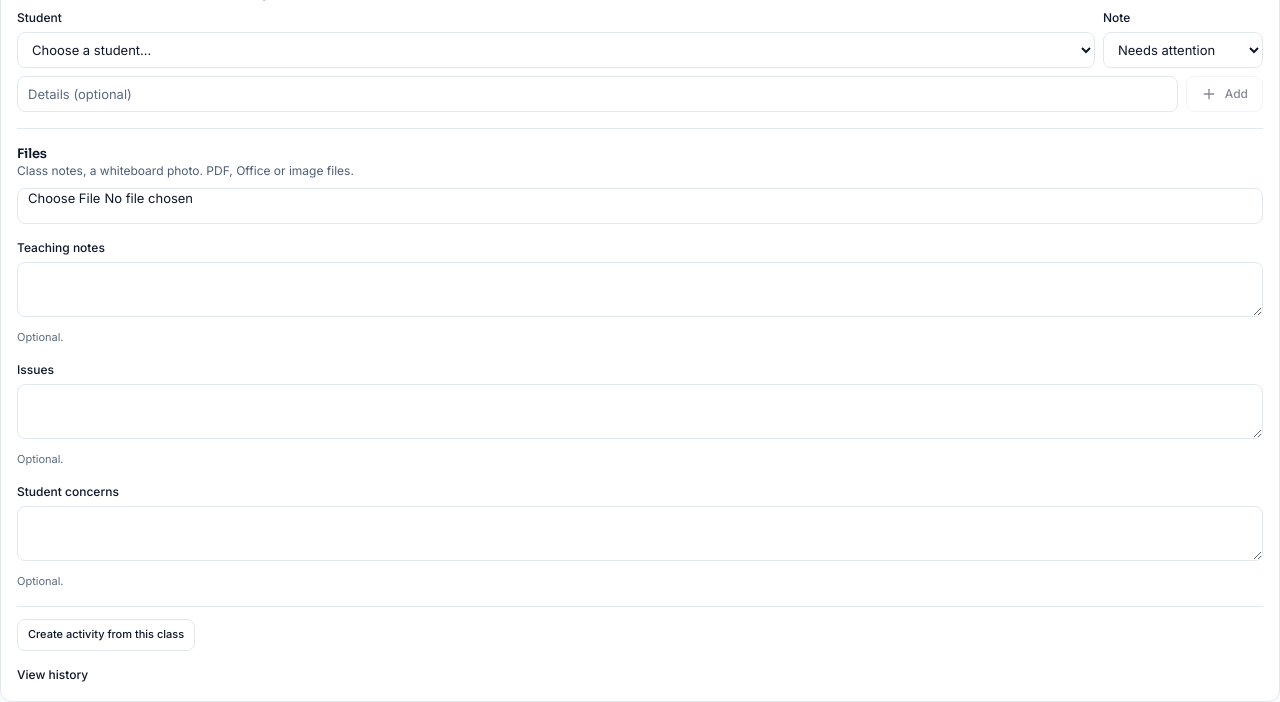
Test: DsrPanel — follow-up (create activity, history) › validates student and activity type before submitting
(page scrolled)
Click the button "Create activity from this class".
click(106, 635)  # box [17,619,195,651]
(page scrolled)
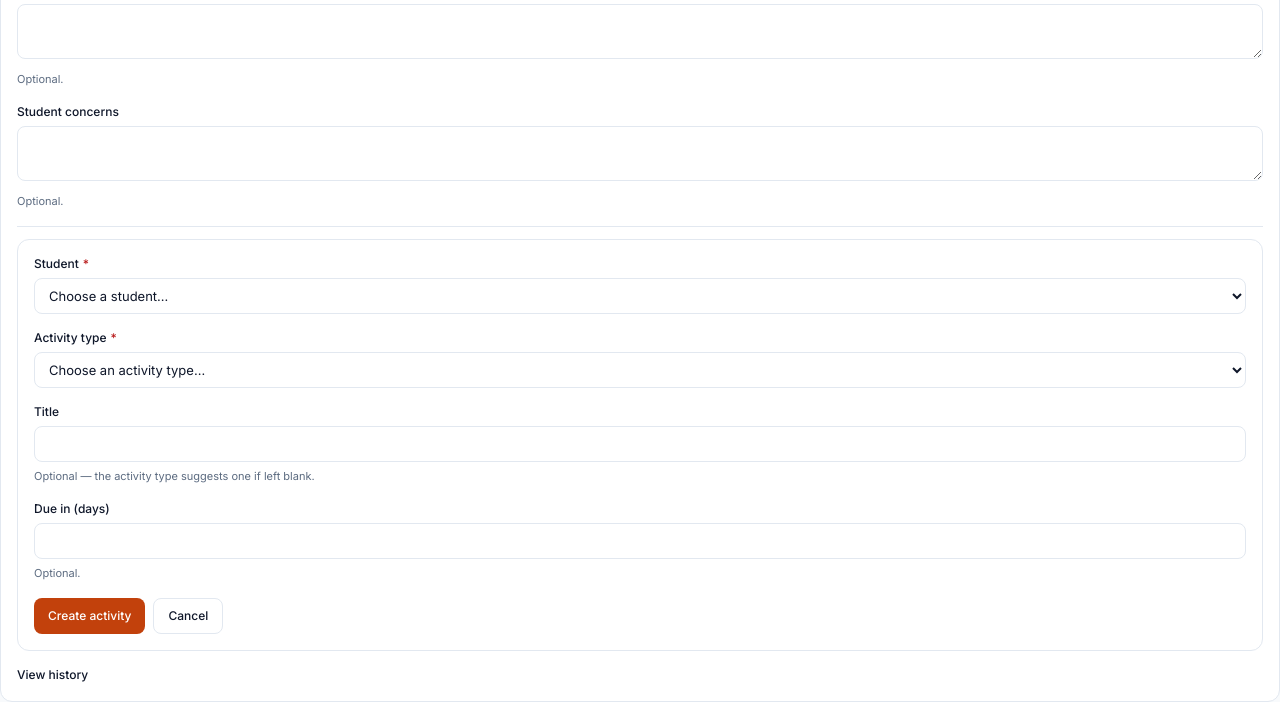
Click the button "Create activity".
click(90, 616)  # box [34,598,145,634]
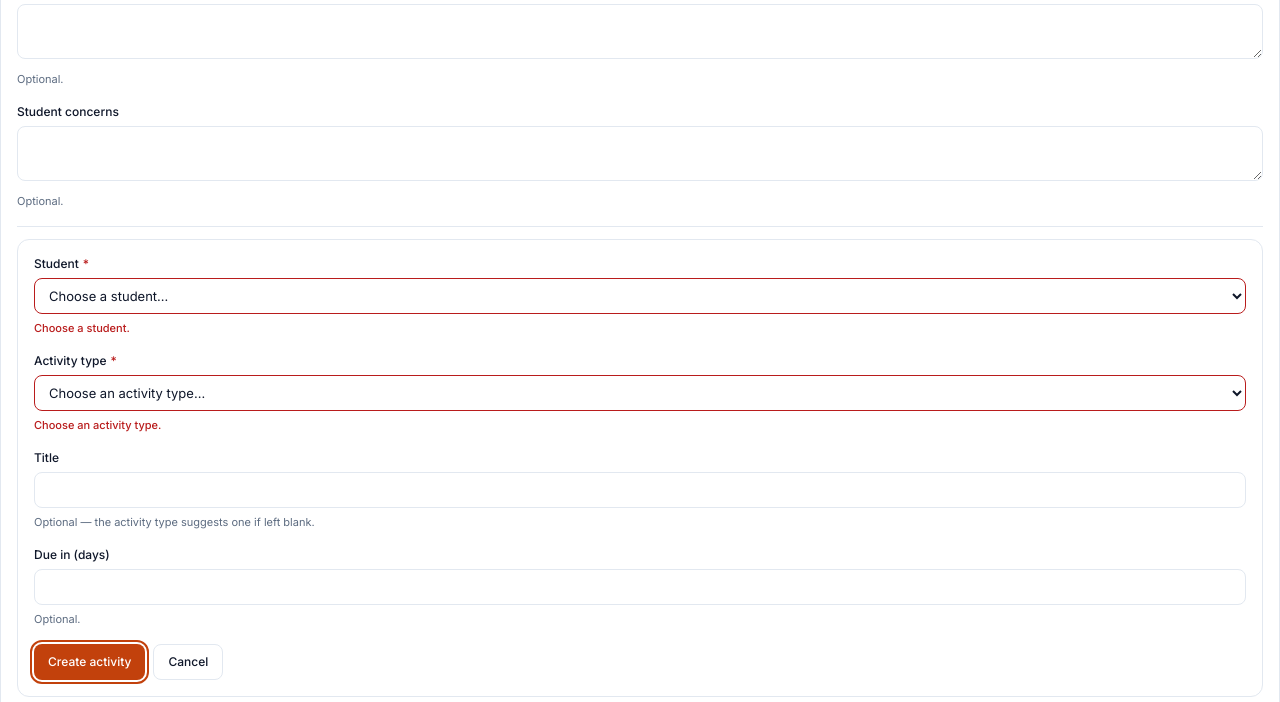
Expected: the text "Choose a student." is shown, [34,321,130,335]
Expected: the text "Choose an activity type." is shown, [34,418,161,432]
